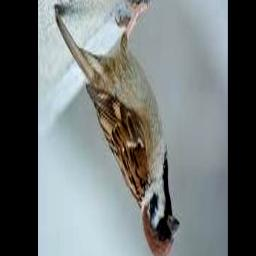Sparrow: (55, 0, 179, 256)
